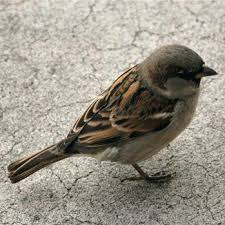hsparrow: (7, 42, 222, 194)
